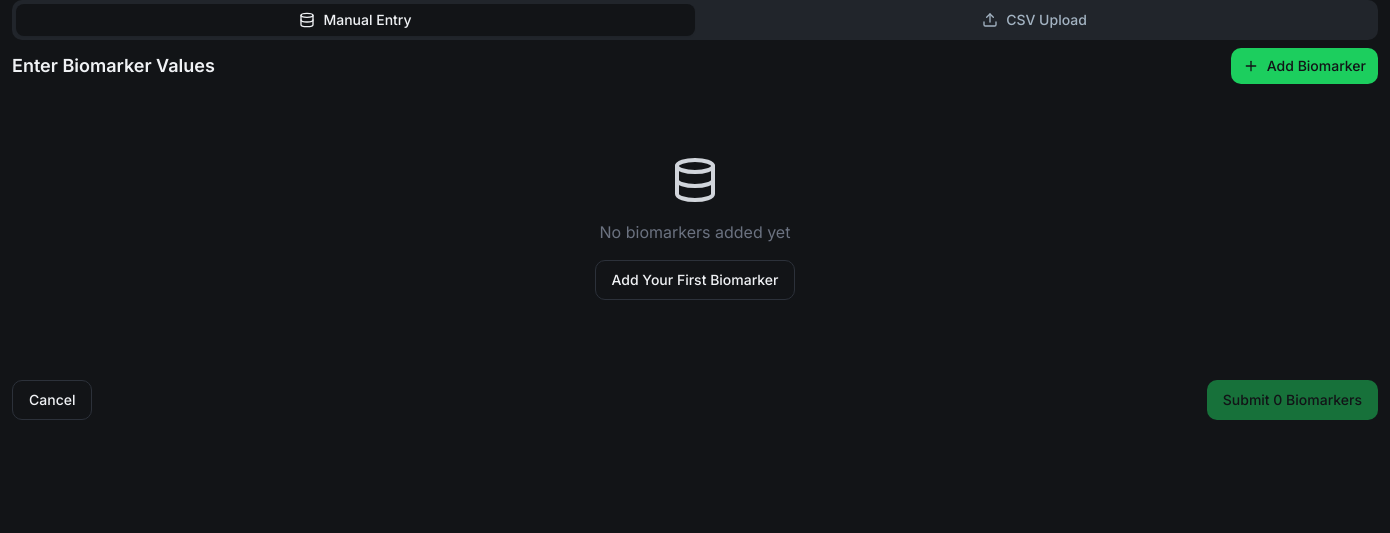
Test: BiomarkerForm › shows correct biomarker count in submit button
Note: Add two biomarkers
Step 1. Click the button "Add Biomarker" → (1304, 66), box [1231,48,1378,84]
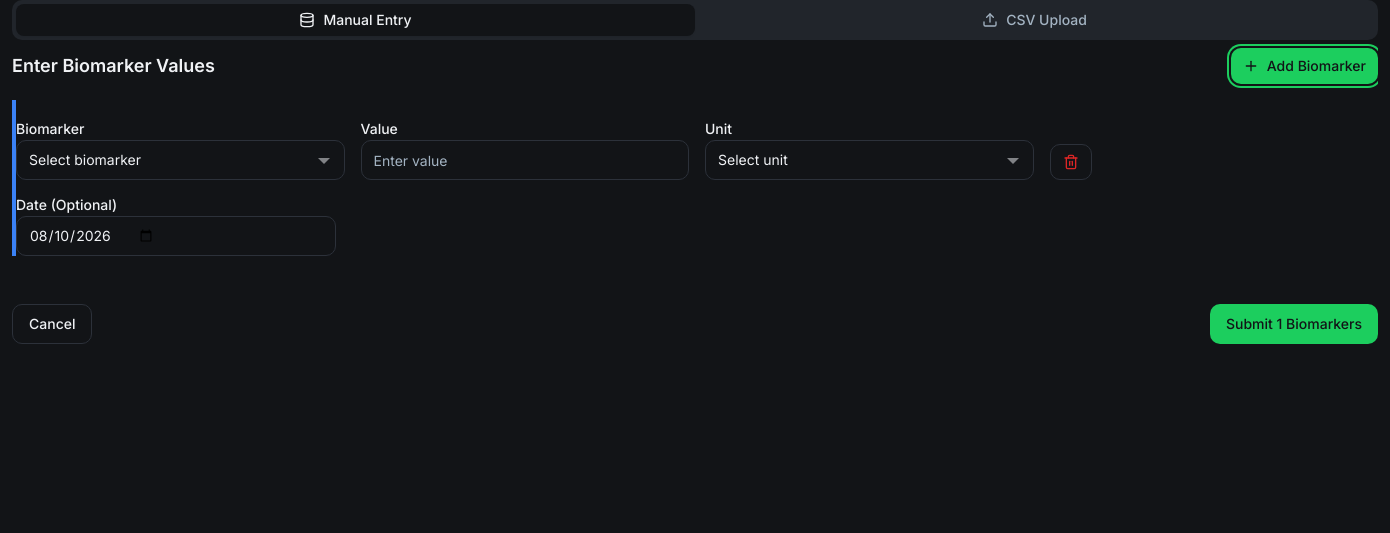
Step 2. Click the button "Add Biomarker" → (1304, 66), box [1231,48,1378,84]
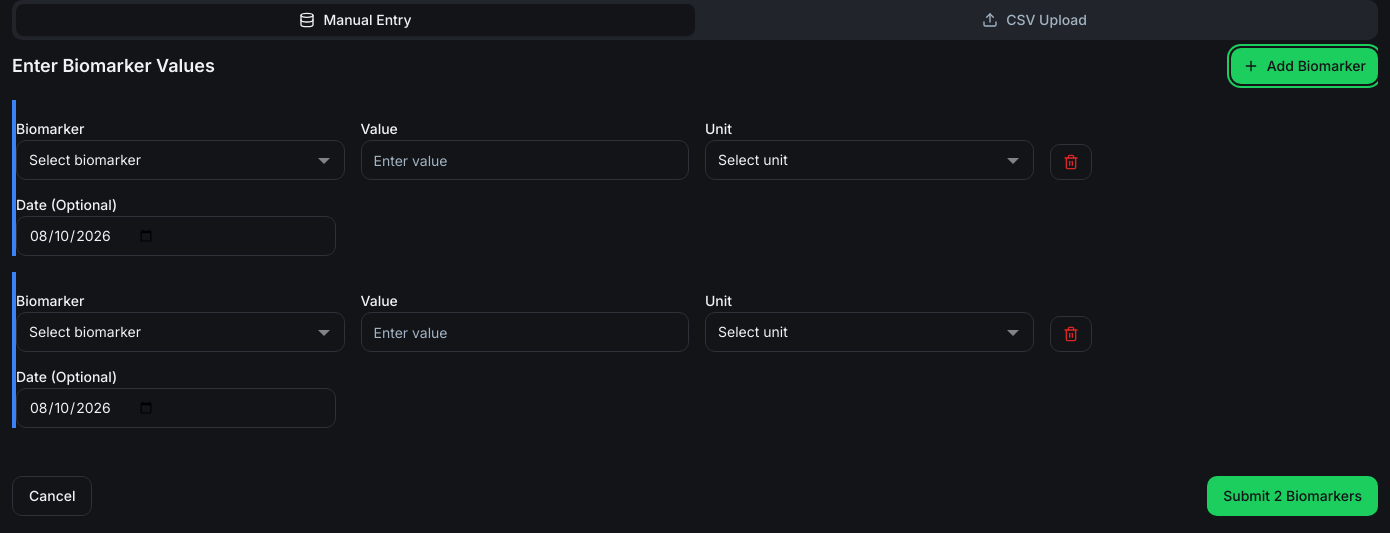
Result: the button "Submit 2 Biomarkers" is shown at [1207,476,1378,516]
